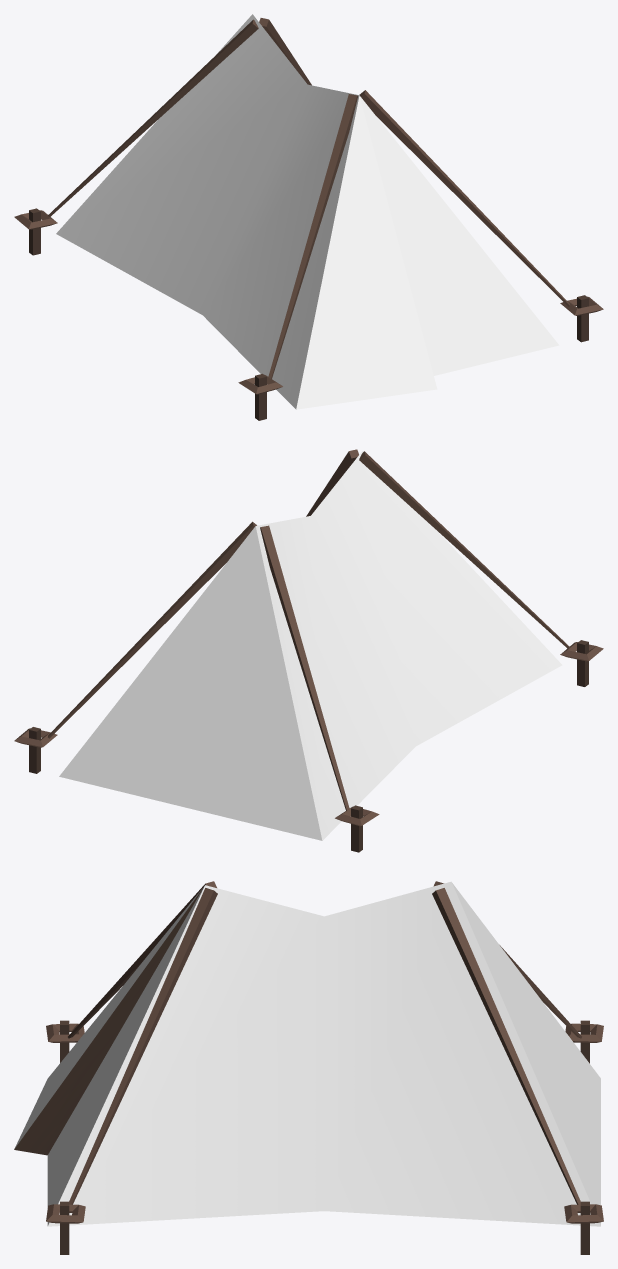
The model's file is tent.fbx.
3 renders of one model, top to bottom at view 1: azimuth 30°, elevation 25°; view 2: azimuth 150°, elevation 25°; view 3: azimuth 270°, elevation 25°, orthographic. The views are drawn at different scales.
Visible parts, largest first — view 1: tent; view 2: tent; view 3: tent.
Boxes of the visible parts, bbox=[...] form: tent: bbox=[14, 14, 603, 420]; tent: bbox=[14, 449, 603, 852]; tent: bbox=[14, 881, 603, 1254].
Bounding box in the file's own units: 2.52 × 1.67 × 3.19.
Materials: 1 (1 with a texture image).
